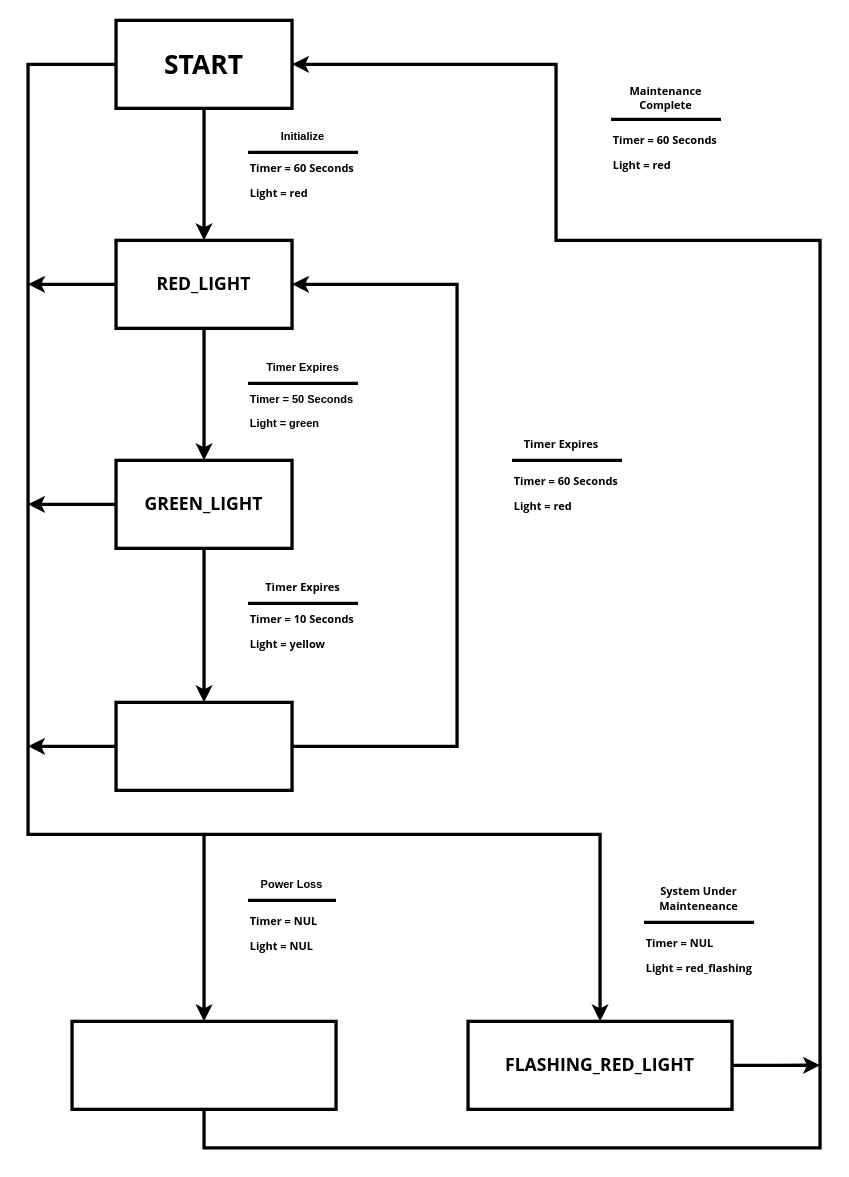
Some shapes in this 849 by 1177 pixel diagram are drawn without their labels. Here are the shapes that lost their labels. From the top down, the box of each, then its label:
(114, 700, 293, 791): YELLOW_LIGHT
(70, 1019, 337, 1110): NO_LIGHT
